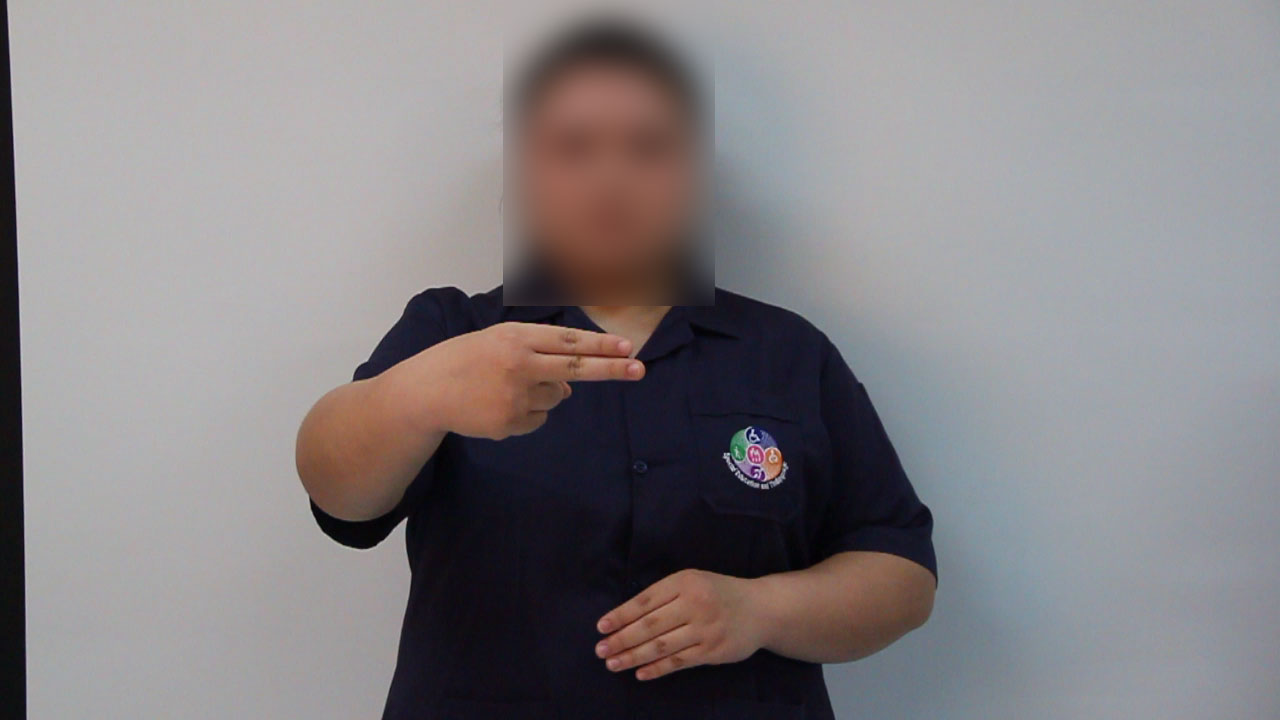hor: (408, 304, 657, 457)
